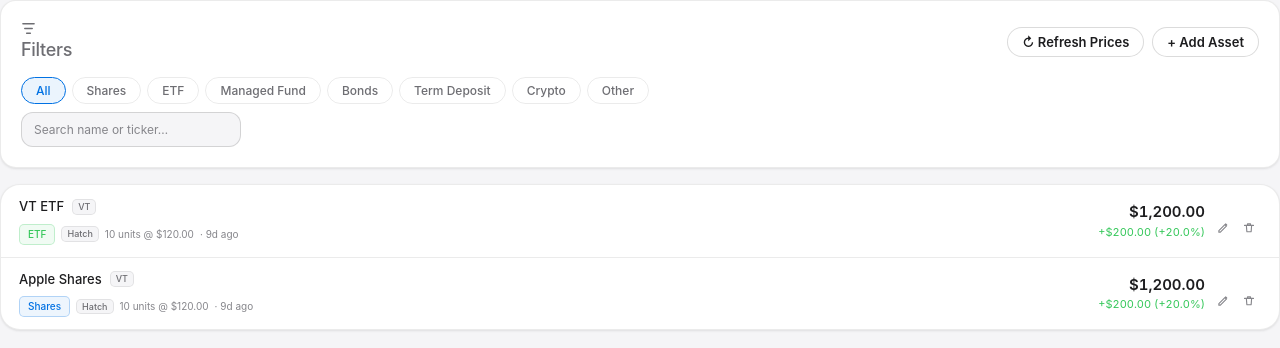
Test case: InvestmentAssets — category filter › filters by category
Expected: the text "VT ETF" is shown, [19,197,64,216]
Expected: the text "Apple Shares" is shown, [19,270,102,289]
# Click ETF filter
What coordinates should you click on to do the following:
click the button "ETF"
I would click on:
 (173, 90)
Its box is [147,77,200,104].
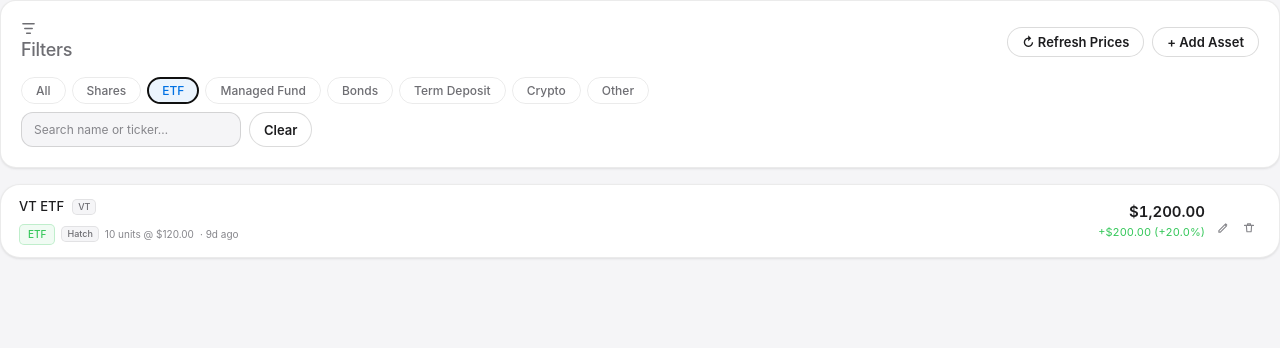
Expected: the text "VT ETF" is shown, [19,197,64,216]
Expected: the text "Apple Shares" is gone
